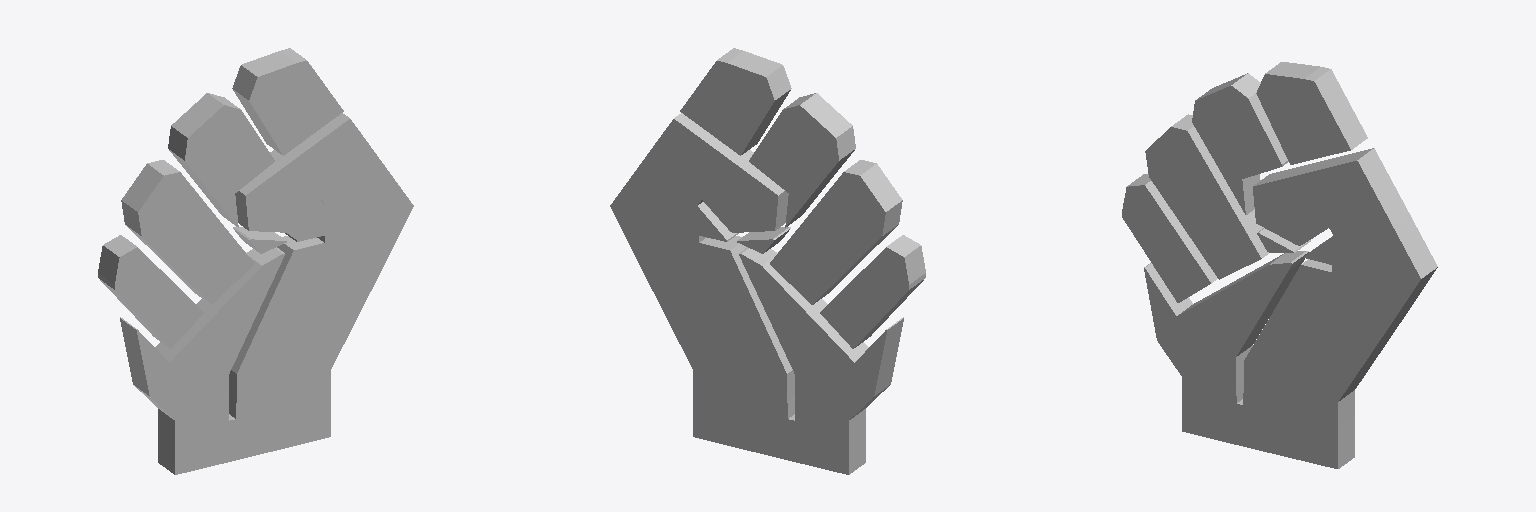
Rendered from fist_left.obj.
The picture shows the model from 3 angles: view 1: azimuth 30°, elevation 25°; view 2: azimuth 150°, elevation 25°; view 3: azimuth 330°, elevation 25°; orthographic projection.
Parts seen in each view (by area): view 1: Fist_Plane.006; view 2: Fist_Plane.006; view 3: Fist_Plane.006.
Part boxes in pixels (x1,y1,x2,y2): Fist_Plane.006: (98,48,413,474); Fist_Plane.006: (610,48,925,474); Fist_Plane.006: (1122,62,1437,468).
Size of the model in its own units: 4.09 by 5 by 0.4.